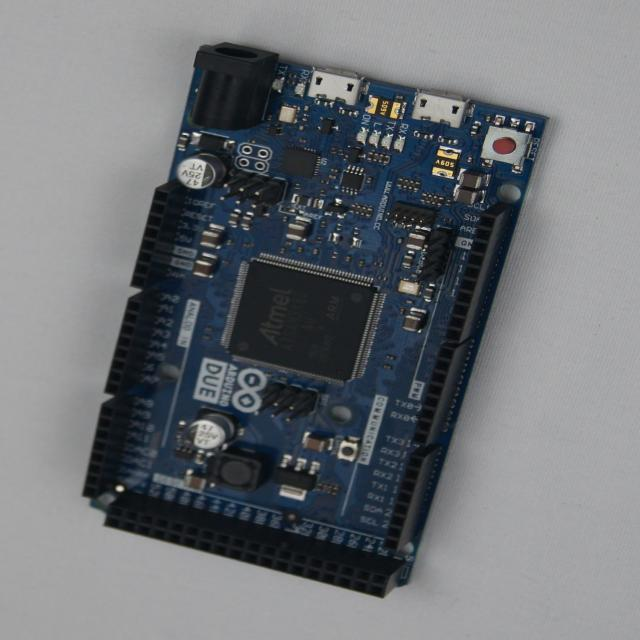Arduino-Due: (84, 44, 547, 597)
